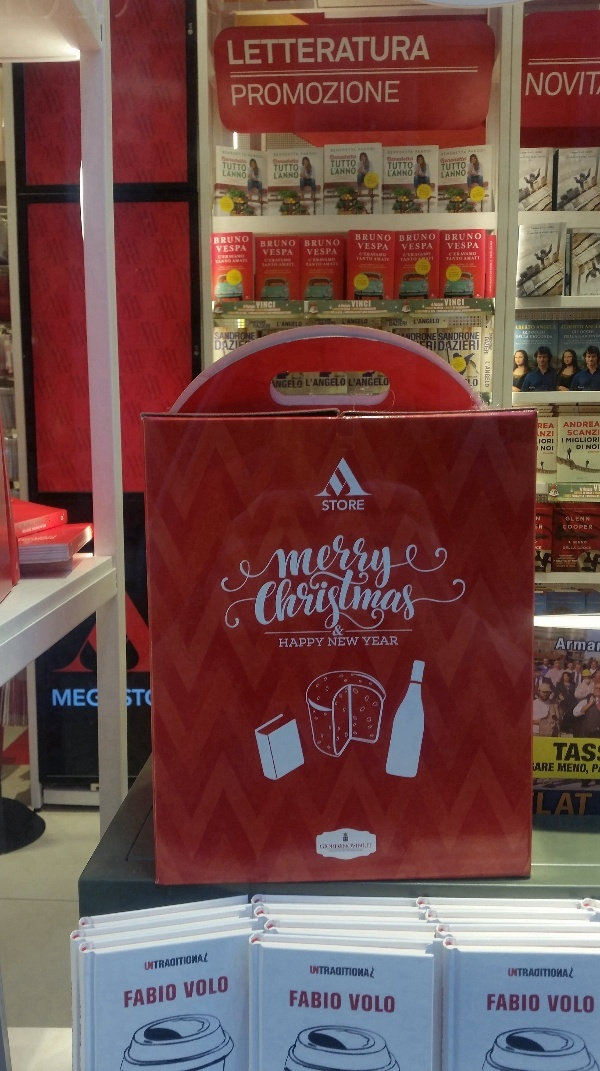text: (273, 565, 288, 629), (289, 565, 304, 629), (305, 565, 320, 629), (321, 565, 336, 629), (337, 565, 352, 629), (353, 565, 368, 629), (369, 565, 384, 629), (385, 565, 400, 629), (289, 533, 304, 589), (305, 533, 320, 589), (321, 533, 336, 589), (337, 533, 352, 589), (353, 533, 368, 589), (369, 533, 384, 589), (401, 565, 414, 629), (260, 565, 272, 629), (277, 533, 288, 589), (241, 34, 256, 66), (257, 34, 272, 66), (273, 34, 288, 66), (289, 34, 304, 66), (305, 34, 320, 66), (321, 34, 336, 66), (337, 34, 352, 66), (353, 34, 368, 66), (369, 34, 384, 66), (385, 34, 400, 66), (401, 34, 416, 66), (385, 81, 401, 108), (227, 34, 240, 66), (417, 34, 430, 66), (241, 81, 256, 108), (257, 81, 272, 108), (273, 81, 288, 108), (289, 81, 304, 108), (305, 81, 320, 108), (321, 81, 336, 108), (337, 81, 352, 108), (353, 81, 368, 108), (369, 81, 384, 108), (161, 985, 177, 1010), (385, 533, 392, 589), (129, 985, 144, 1010), (145, 985, 160, 1010), (529, 73, 544, 96), (545, 73, 560, 96), (561, 73, 576, 96), (577, 73, 592, 96), (545, 793, 560, 816), (561, 793, 576, 816), (577, 793, 592, 816), (193, 978, 208, 1001), (209, 978, 224, 1001), (65, 688, 80, 710), (81, 688, 96, 710), (97, 688, 112, 710), (113, 688, 128, 710), (129, 688, 144, 710), (305, 991, 320, 1012), (321, 991, 336, 1012), (145, 951, 160, 972), (161, 951, 176, 972), (177, 951, 192, 972), (193, 951, 208, 972), (529, 325, 544, 346), (545, 325, 560, 346), (561, 325, 576, 346), (577, 325, 592, 346), (490, 242, 496, 293), (353, 995, 368, 1015), (369, 995, 384, 1015), (290, 991, 304, 1012), (561, 995, 576, 1013), (577, 995, 592, 1013), (561, 744, 576, 762), (577, 744, 592, 762), (497, 995, 512, 1013), (513, 995, 528, 1013), (486, 361, 496, 387), (516, 325, 528, 346), (53, 688, 64, 710), (321, 966, 336, 982), (337, 966, 352, 982), (353, 966, 368, 982), (232, 81, 240, 108), (548, 995, 560, 1013), (337, 499, 352, 513), (561, 554, 576, 568), (385, 995, 395, 1015), (485, 337, 496, 355), (184, 978, 192, 1001), (561, 764, 576, 776), (561, 639, 576, 651), (577, 639, 592, 651), (529, 995, 539, 1013), (513, 968, 528, 980), (529, 968, 544, 980), (545, 968, 560, 980), (449, 251, 464, 263), (449, 168, 464, 180), (324, 499, 336, 513), (465, 251, 479, 263), (449, 340, 464, 351), (337, 636, 352, 647), (225, 254, 240, 265), (593, 73, 600, 96), (310, 966, 320, 982), (353, 499, 364, 513), (465, 340, 479, 351), (449, 331, 464, 341), (401, 232, 416, 242), (417, 232, 432, 242), (353, 377, 368, 387), (369, 377, 384, 387), (369, 636, 384, 646), (289, 638, 304, 648), (305, 638, 320, 648), (225, 163, 240, 173), (369, 252, 384, 262), (593, 325, 600, 346), (577, 764, 589, 776), (488, 995, 496, 1013), (561, 968, 573, 980), (465, 331, 479, 341), (538, 793, 544, 816), (257, 300, 272, 309), (273, 380, 288, 389), (225, 341, 240, 350), (401, 252, 416, 261), (417, 252, 432, 261), (449, 148, 464, 157), (465, 148, 480, 157), (449, 162, 464, 171), (145, 688, 151, 710), (385, 636, 398, 646), (465, 233, 481, 241), (321, 247, 337, 255), (321, 258, 337, 266), (553, 744, 560, 762), (593, 744, 600, 762), (274, 164, 288, 173), (274, 171, 288, 180), (417, 317, 432, 325), (449, 233, 464, 241), (353, 300, 368, 308), (449, 299, 464, 307), (417, 242, 432, 250), (369, 242, 384, 250), (321, 842, 336, 850), (337, 842, 352, 850), (353, 842, 368, 850), (225, 237, 240, 245), (225, 245, 240, 253), (273, 240, 288, 248), (273, 248, 288, 256), (305, 239, 320, 247), (321, 239, 336, 247), (337, 159, 352, 167), (337, 167, 352, 175), (321, 378, 336, 386), (225, 332, 240, 340), (225, 151, 240, 159), (241, 151, 256, 159), (225, 156, 240, 164), (420, 342, 432, 352), (353, 318, 368, 326), (289, 380, 302, 389), (402, 242, 416, 250), (466, 377, 480, 385), (306, 378, 320, 386), (241, 332, 255, 340), (533, 762, 544, 772), (357, 252, 368, 262), (490, 333, 496, 351), (388, 161, 400, 170), (401, 161, 413, 170), (369, 234, 384, 241), (225, 171, 240, 178), (273, 259, 288, 266), (577, 421, 592, 428), (577, 429, 592, 436), (337, 146, 352, 153), (353, 146, 368, 153), (337, 155, 352, 162), (417, 333, 432, 340), (307, 247, 320, 255), (307, 258, 320, 266), (545, 762, 555, 772), (439, 340, 448, 351), (553, 554, 560, 568), (388, 169, 400, 177), (403, 333, 416, 340), (439, 331, 448, 341), (449, 243, 464, 249), (279, 638, 288, 648), (328, 636, 336, 647), (261, 240, 272, 248), (216, 254, 224, 265), (401, 169, 412, 177), (356, 234, 368, 241), (465, 243, 479, 249), (593, 639, 600, 651), (337, 991, 341, 1012), (289, 164, 298, 173), (289, 171, 298, 180), (358, 242, 368, 250), (369, 966, 374, 982), (214, 237, 224, 245), (321, 320, 337, 325), (289, 321, 302, 327), (353, 636, 360, 647), (241, 254, 248, 265), (577, 525, 592, 530), (125, 985, 128, 1010), (577, 445, 592, 450), (577, 438, 592, 443), (401, 149, 416, 154), (417, 149, 432, 154), (449, 157, 464, 162), (289, 152, 304, 157), (263, 248, 272, 256), (216, 341, 224, 350), (442, 168, 448, 180), (343, 318, 352, 326), (262, 259, 272, 266), (566, 421, 576, 428), (562, 438, 576, 443), (274, 152, 288, 157), (225, 978, 228, 1001), (277, 321, 288, 327), (577, 516, 590, 521), (563, 525, 576, 530), (241, 237, 249, 245), (216, 245, 224, 253), (337, 378, 345, 386), (216, 332, 224, 340), (257, 151, 265, 159), (593, 764, 600, 773), (577, 494, 592, 498), (362, 636, 368, 646), (349, 995, 352, 1015), (388, 149, 400, 154), (388, 157, 400, 162), (305, 152, 317, 157), (390, 321, 400, 327), (578, 546, 592, 550), (568, 429, 576, 436), (274, 160, 288, 164), (401, 157, 412, 162), (535, 524, 544, 530), (545, 423, 554, 429), (442, 148, 448, 157), (442, 162, 448, 171), (563, 546, 576, 550), (566, 516, 576, 521), (241, 163, 246, 173), (593, 421, 600, 428), (433, 317, 439, 325), (564, 494, 576, 498), (289, 240, 295, 248), (583, 487, 592, 492), (577, 492, 592, 495), (545, 439, 554, 444), (545, 432, 554, 437), (567, 438, 576, 443), (581, 488, 592, 492), (385, 234, 391, 241), (594, 485, 600, 492), (593, 429, 599, 436), (330, 155, 336, 162), (385, 377, 389, 387), (241, 245, 246, 253), (331, 159, 336, 167), (331, 167, 336, 175), (385, 252, 389, 262), (545, 446, 553, 451), (241, 156, 246, 164), (289, 160, 299, 164), (535, 546, 544, 550), (509, 968, 512, 980), (538, 423, 544, 429), (401, 321, 407, 327), (241, 171, 246, 178), (289, 259, 294, 266), (331, 146, 336, 153), (369, 146, 374, 153), (441, 157, 448, 162), (536, 517, 544, 521), (349, 377, 352, 387), (577, 541, 587, 544), (321, 638, 324, 648), (593, 445, 599, 450), (593, 438, 599, 443), (433, 342, 436, 352), (593, 494, 600, 498), (433, 333, 437, 340), (535, 541, 544, 544), (241, 341, 244, 350), (481, 148, 484, 157), (539, 439, 544, 444), (587, 445, 592, 450), (445, 233, 448, 241), (445, 299, 448, 307), (385, 242, 388, 250), (568, 541, 576, 544), (369, 842, 372, 850), (289, 248, 292, 256), (337, 239, 340, 247), (353, 159, 356, 167), (446, 251, 448, 263), (527, 73, 528, 96), (593, 492, 600, 495), (353, 155, 356, 162), (433, 232, 435, 242), (593, 995, 594, 1013), (273, 300, 275, 309), (414, 317, 416, 325), (369, 300, 371, 308), (353, 167, 355, 175), (541, 446, 544, 451), (541, 432, 544, 437), (577, 554, 578, 568), (559, 764, 560, 776), (465, 168, 466, 180), (223, 163, 224, 173), (573, 541, 576, 544), (433, 252, 434, 261), (465, 162, 466, 171), (223, 151, 224, 159), (223, 156, 224, 164), (223, 171, 224, 178), (447, 243, 448, 249), (574, 492, 576, 495), (465, 157, 466, 162), (319, 320, 320, 325)
